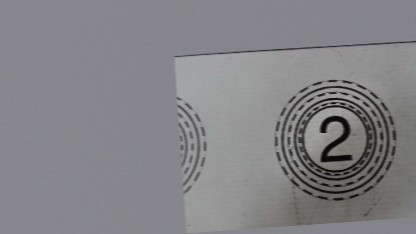2r: (269, 74, 400, 204)
